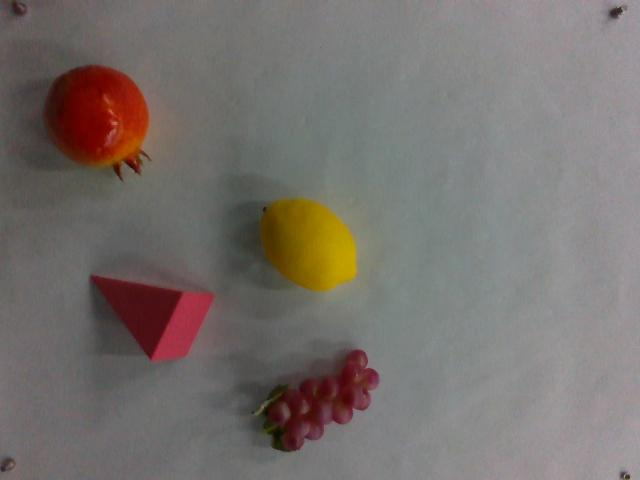grape: (256, 345, 382, 454)
lemon: (260, 194, 357, 292)
pomegranate: (48, 59, 152, 181)
pyramid: (87, 269, 213, 364)
